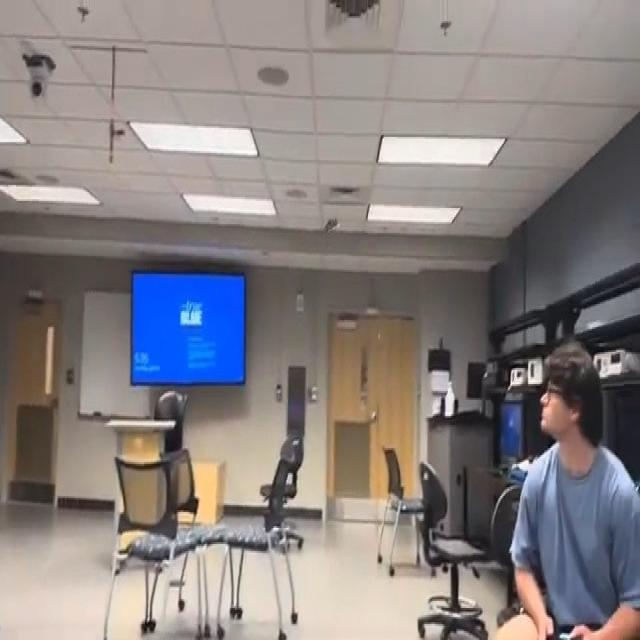drone: (319, 213, 341, 240)
